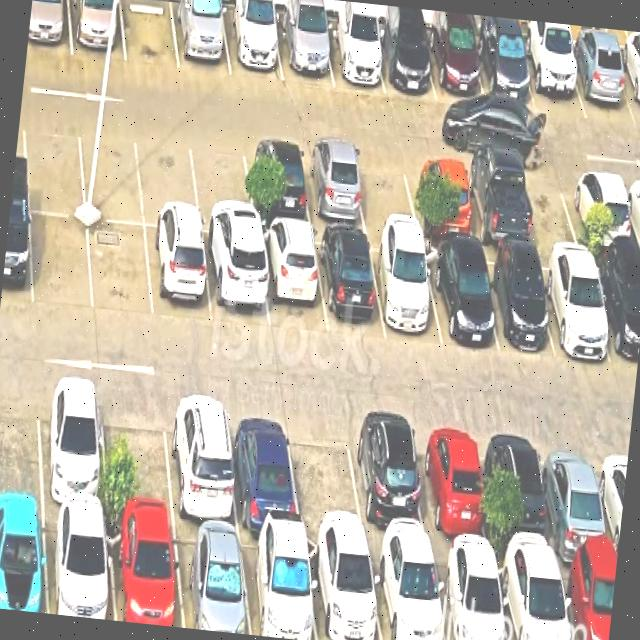empty: (287, 409, 365, 542), (101, 386, 174, 522), (189, 133, 255, 237), (78, 121, 143, 224), (137, 128, 200, 230), (88, 220, 152, 319), (23, 114, 85, 215), (30, 212, 92, 310), (351, 148, 418, 231), (0, 376, 42, 504), (521, 163, 585, 246), (120, 0, 179, 68)
occupied: (346, 415, 431, 548), (413, 419, 490, 555), (539, 431, 615, 563), (165, 394, 238, 528), (226, 401, 300, 532), (486, 425, 557, 559), (37, 378, 107, 513), (535, 249, 613, 360), (172, 524, 250, 634), (239, 531, 316, 640), (107, 517, 183, 627), (422, 244, 498, 351), (368, 236, 442, 345), (476, 248, 553, 351), (44, 509, 114, 620), (306, 537, 381, 640), (314, 230, 385, 336), (258, 225, 327, 333), (368, 547, 445, 640), (432, 550, 508, 640), (145, 226, 212, 323), (495, 555, 570, 640), (202, 234, 269, 329), (461, 159, 532, 247), (564, 42, 635, 124), (407, 154, 475, 239), (243, 139, 311, 224), (591, 253, 640, 369), (518, 38, 586, 119), (300, 144, 366, 227), (572, 167, 635, 250), (473, 30, 536, 113), (424, 26, 486, 106), (0, 506, 46, 613), (372, 25, 435, 100), (557, 560, 616, 640), (221, 5, 283, 80), (322, 19, 384, 93), (171, 0, 230, 75), (275, 14, 333, 84), (68, 0, 125, 60), (0, 205, 31, 305), (27, 0, 72, 54), (614, 49, 640, 124)
